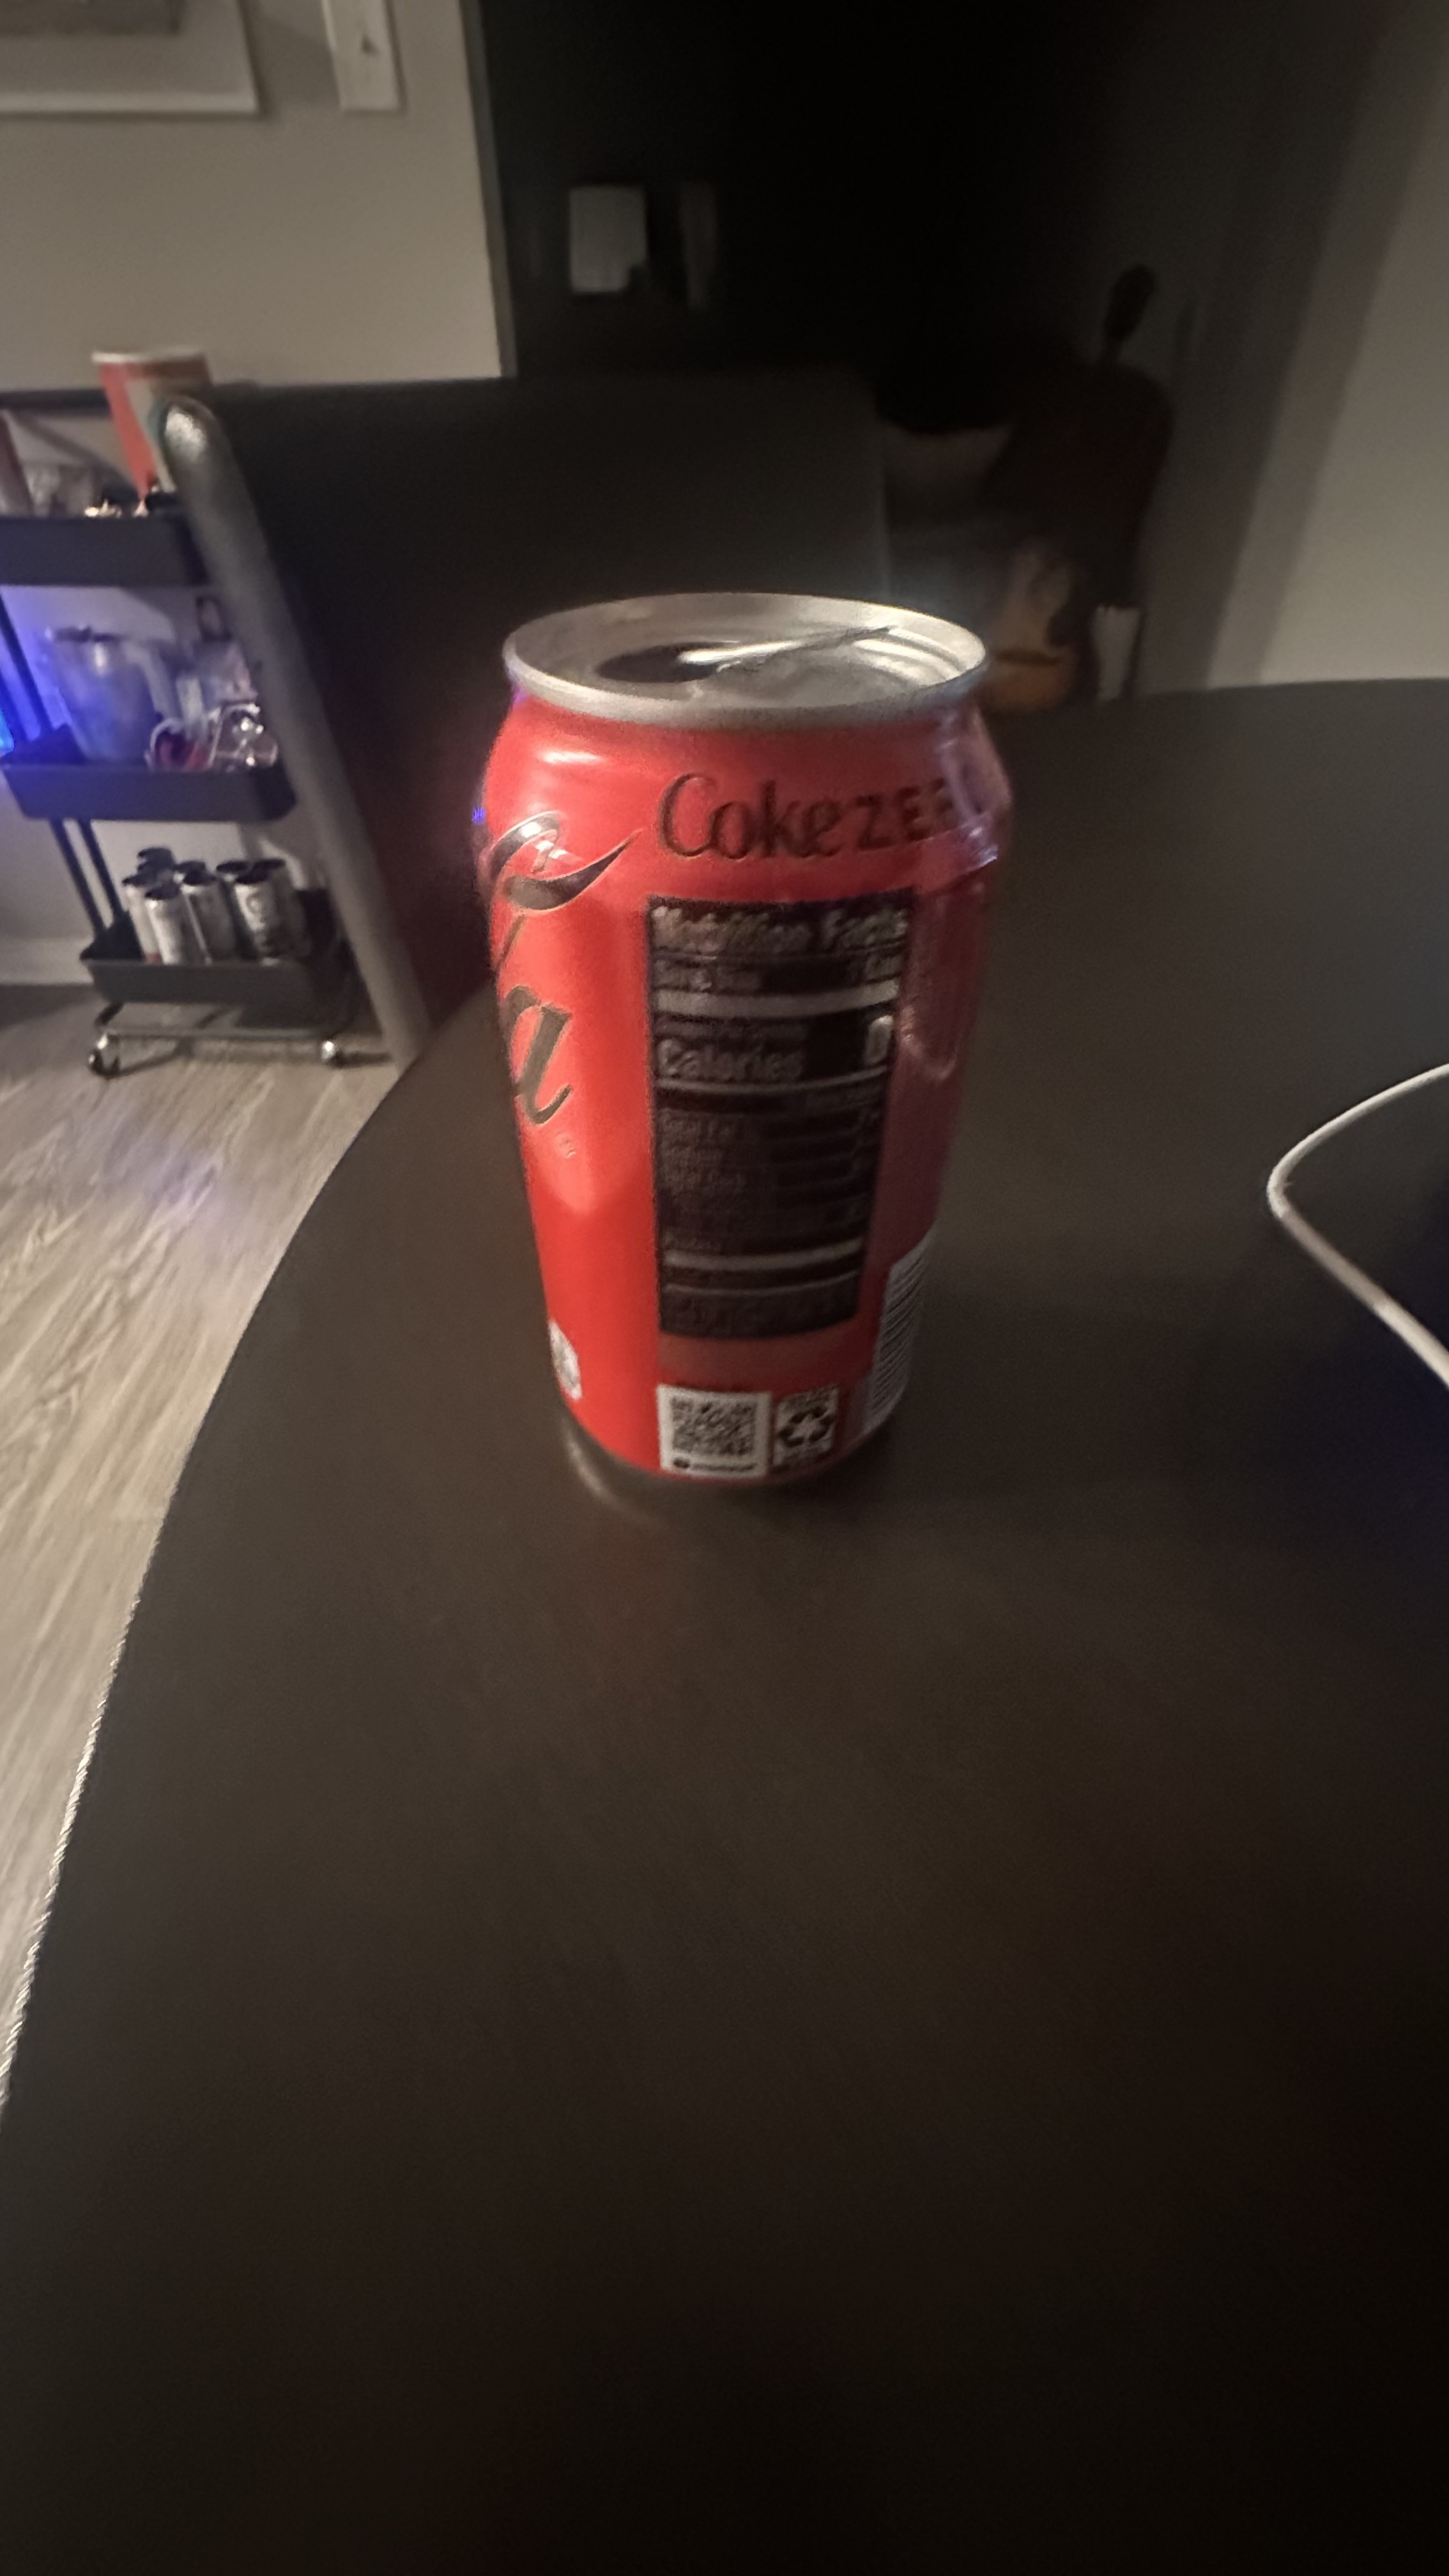Coke Zero: (451, 550, 987, 1518)
